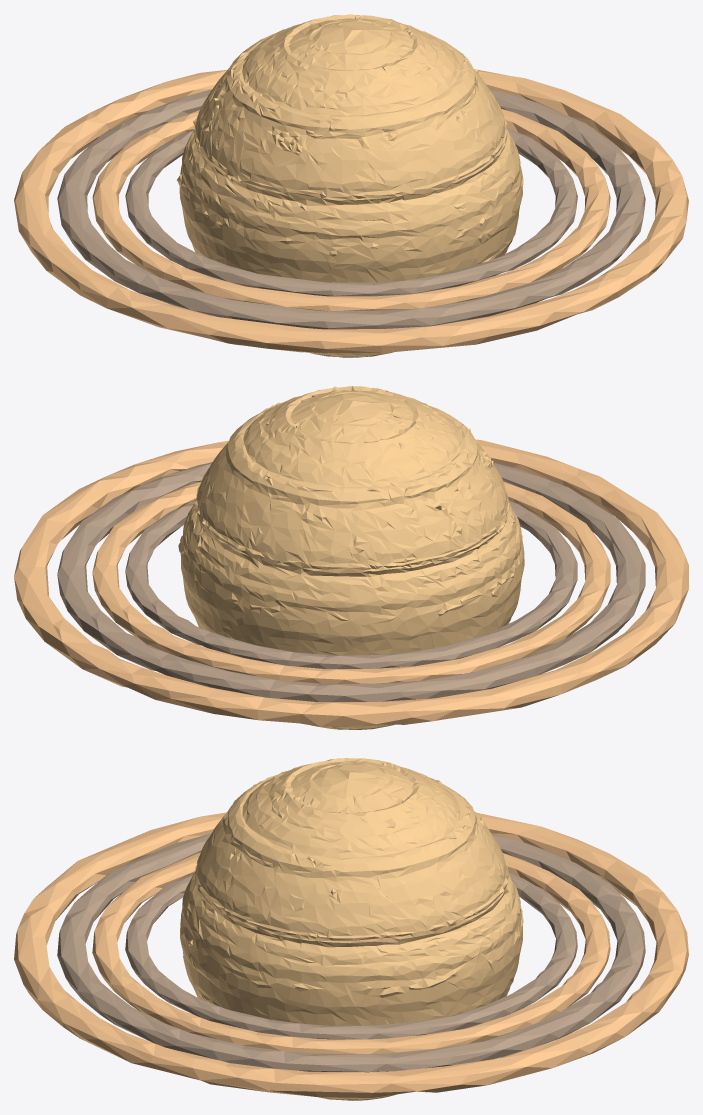
Rendered from saturn.glb.
3 views of the same model, one above another, from view 1: azimuth 30°, elevation 25°; view 2: azimuth 150°, elevation 25°; view 3: azimuth 270°, elevation 25° (orthographic).
Parts seen in each view (by area): view 1: Saturn; view 2: Saturn; view 3: Saturn.
Boxes of the visible parts, x1,y1,x2,y2 form: Saturn: (14,14,688,357); Saturn: (14,386,688,729); Saturn: (14,758,688,1100).
Size of the model in its own units: 1.08 by 0.554 by 1.08.
